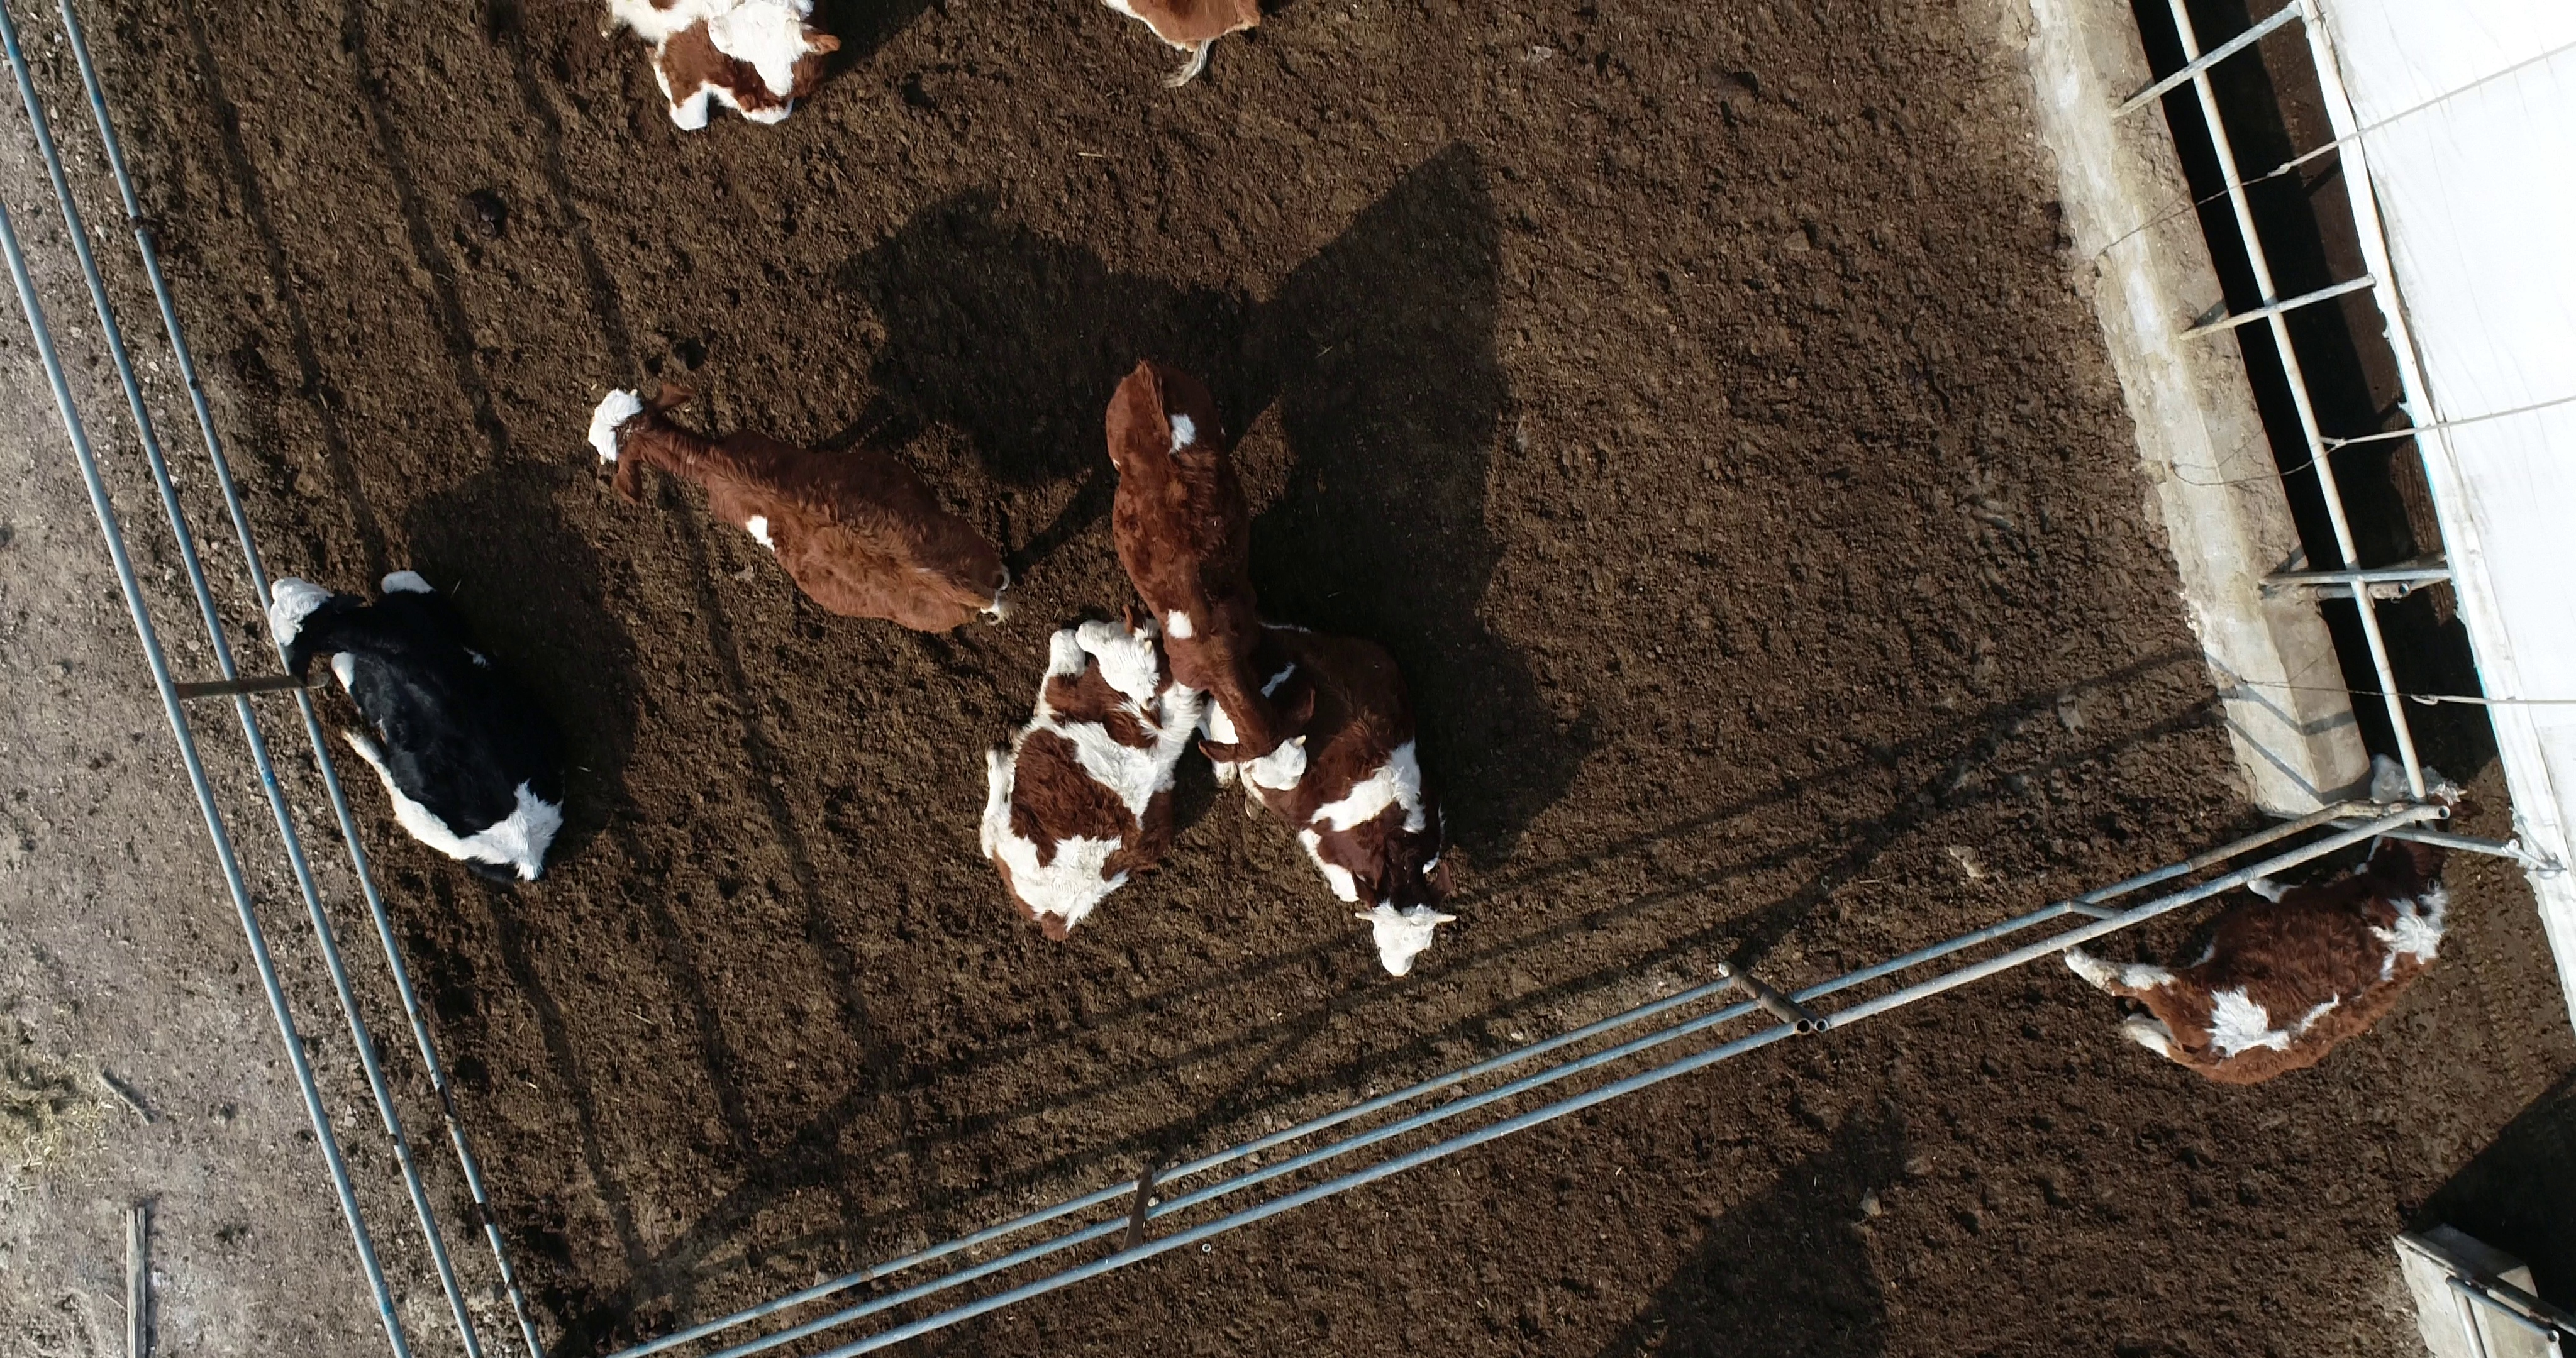cattle: (2065, 751, 2479, 1092), (584, 375, 1027, 636), (257, 564, 572, 888), (1101, 348, 1320, 792), (976, 603, 1201, 946)
